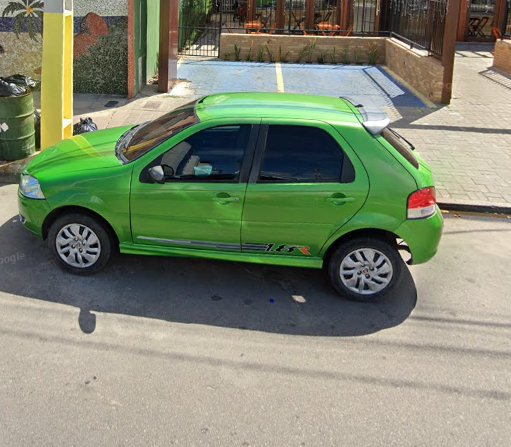car: (17, 90, 446, 307)
